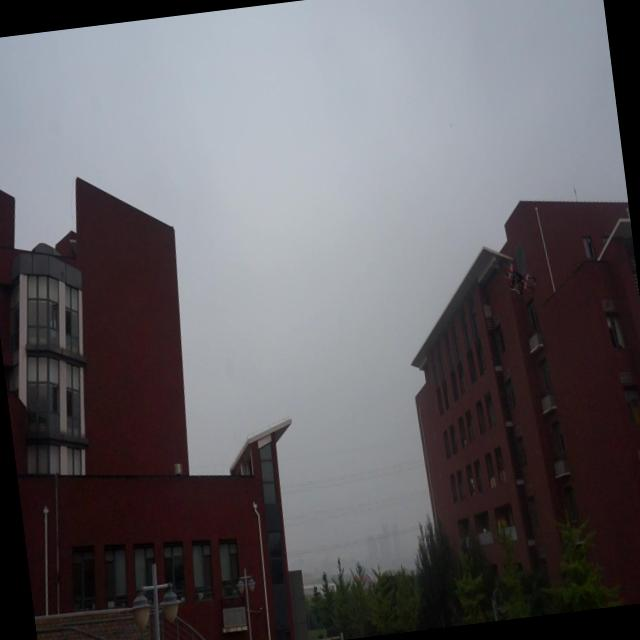drone: (496, 252, 540, 304)
